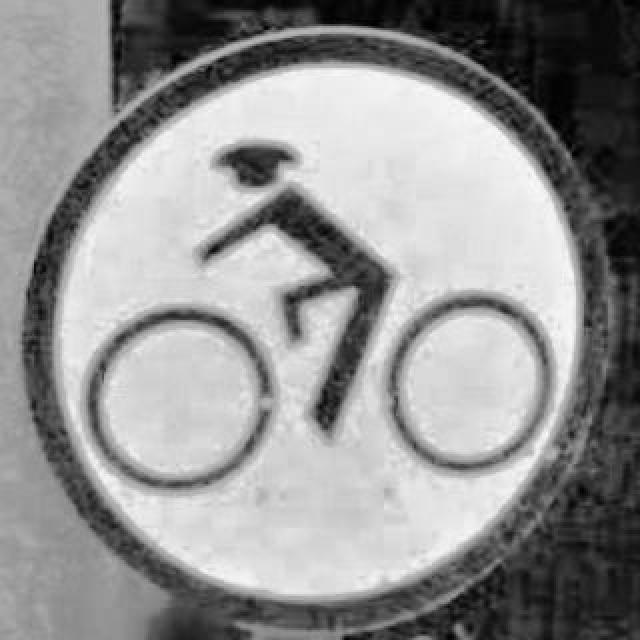bike lane: (24, 26, 608, 632)
